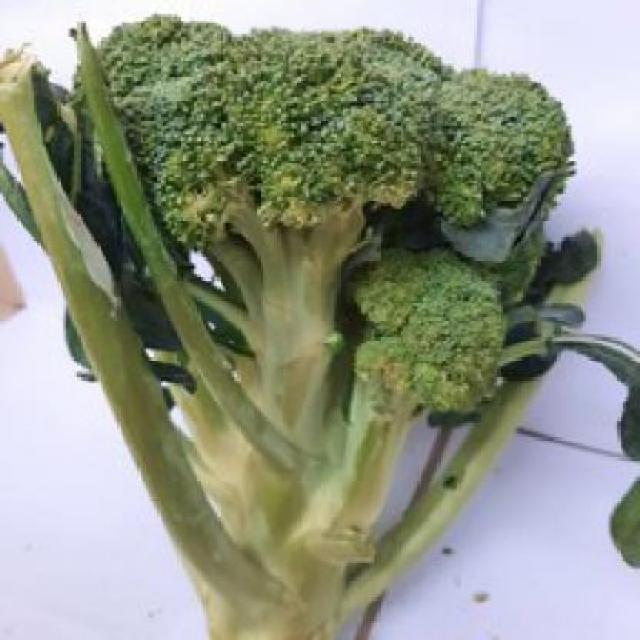broccoli: (53, 6, 584, 608)
